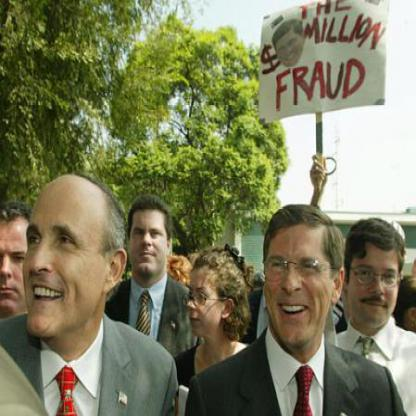face: (15, 175, 110, 352), (265, 206, 336, 352), (349, 221, 403, 331), (1, 208, 45, 322), (128, 198, 171, 278), (186, 255, 226, 340)
